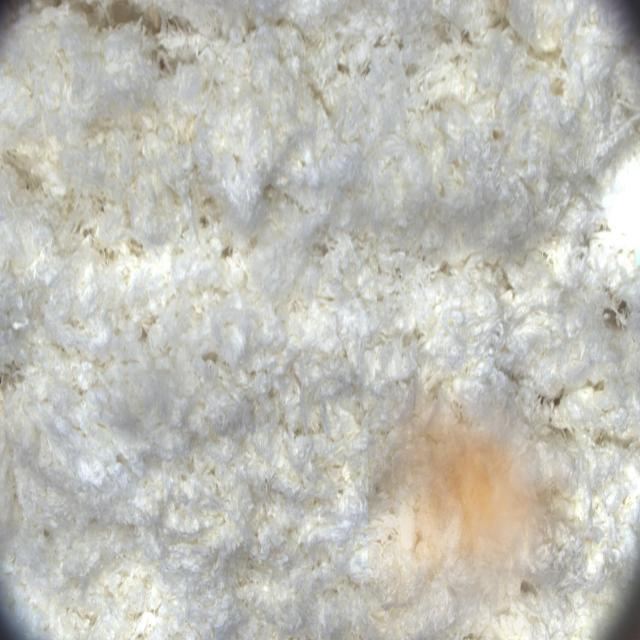dust: (369, 379, 576, 637)
